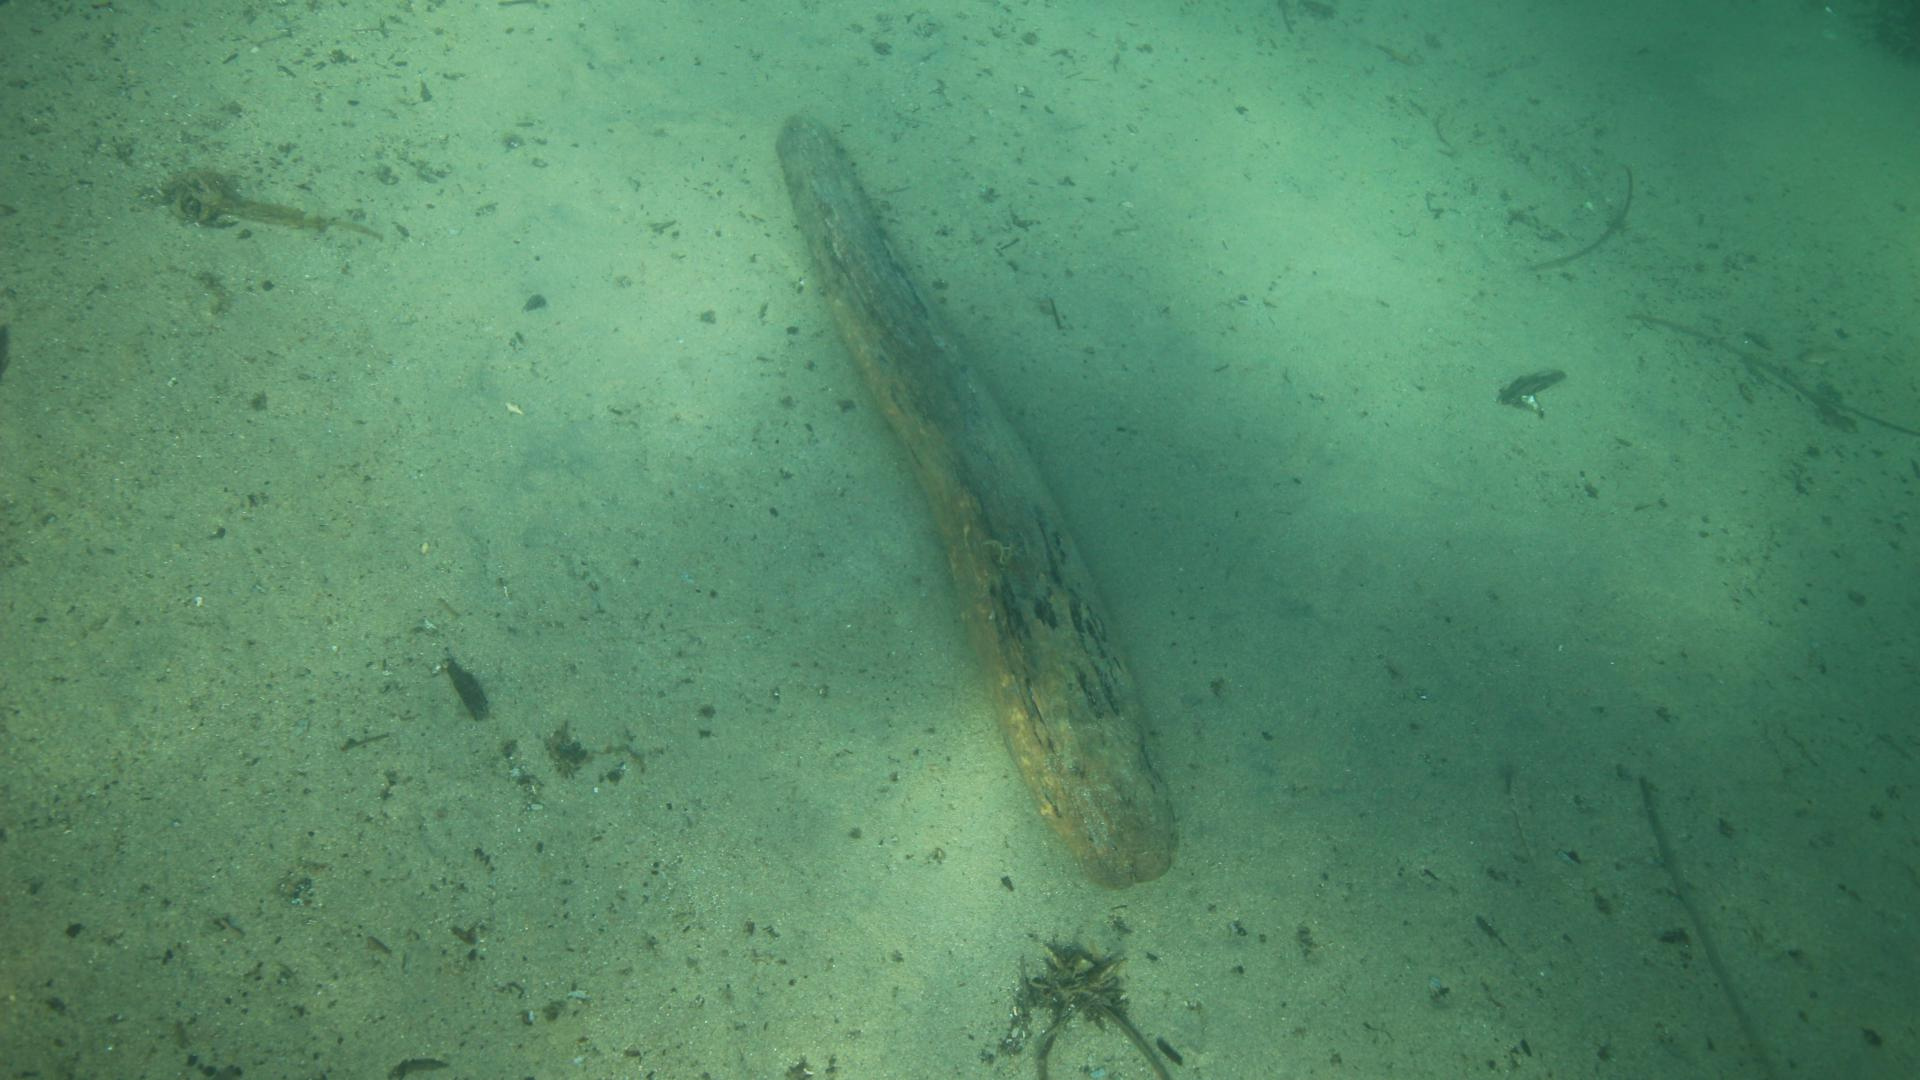wood: (775, 113, 1175, 887)
